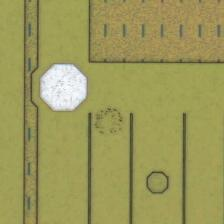PO CONTAMINATION: (92, 105, 125, 140)
